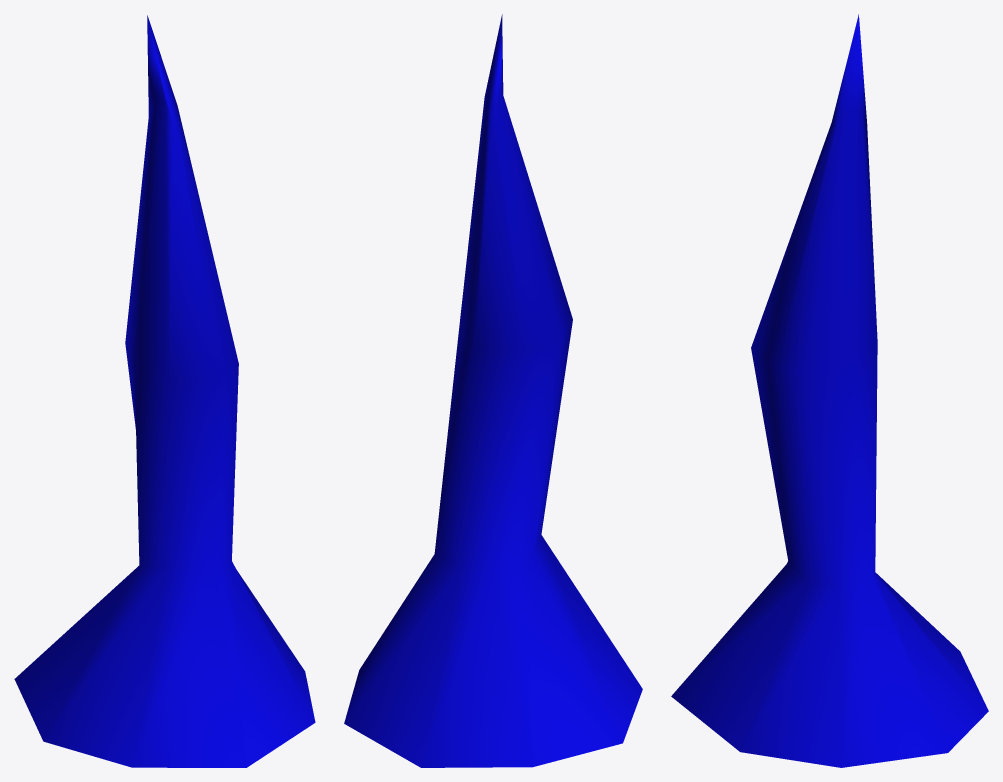
Rendered from Spike05_mesh.fbx.
3 views of the same model, side by side, from view 1: azimuth 30°, elevation 25°; view 2: azimuth 150°, elevation 25°; view 3: azimuth 270°, elevation 25° (orthographic). The views are drawn at different scales.
Visible parts, largest first — view 1: Spike05_mesh; view 2: Spike05_mesh; view 3: Spike05_mesh.
Boxes of the visible parts, x1=… form: Spike05_mesh: x1=14, y1=15, x2=315, y2=767; Spike05_mesh: x1=344, y1=14, x2=642, y2=767; Spike05_mesh: x1=671, y1=14, x2=988, y2=767.
Bounding box in the file's own units: 0.7224 × 1.85 × 0.7699.
